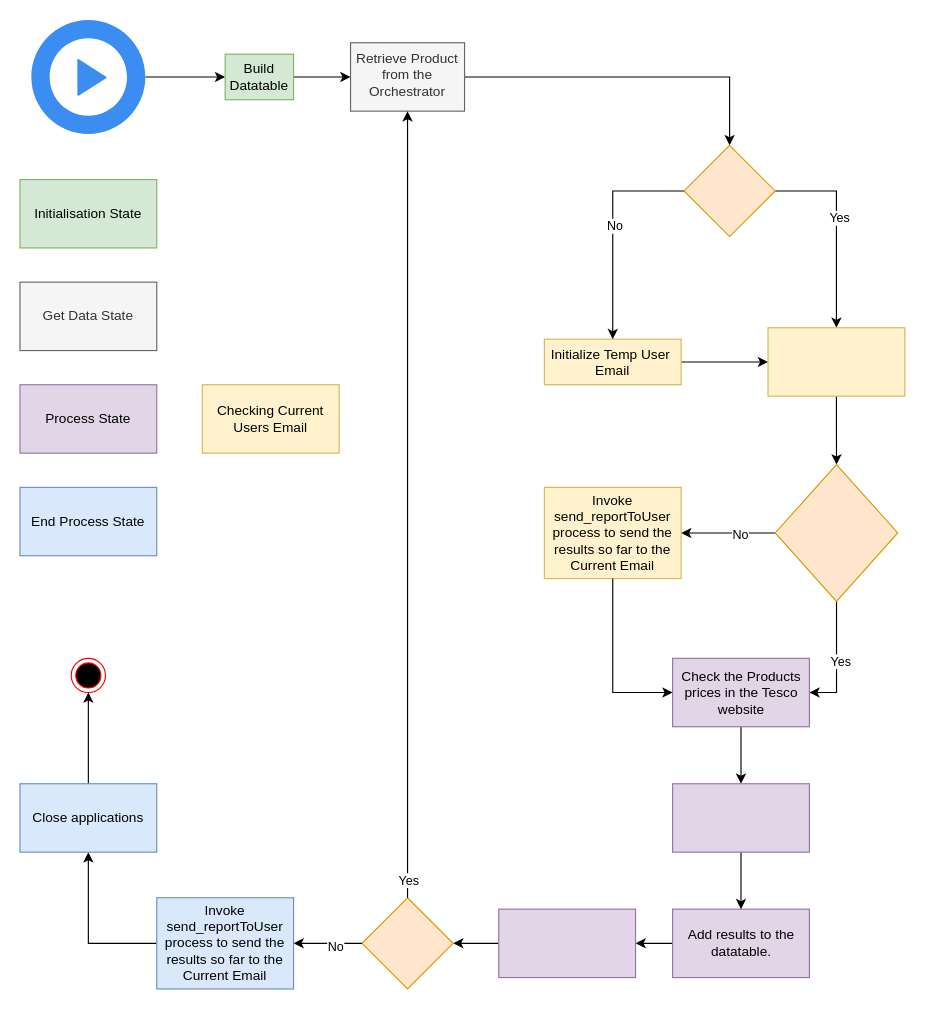
This 926x1009 diagram has some shape labels left out. Each missing label, with the centre of its shape:
"Check if the current users Email is equal to the Temp User Email." belongs at (836,361).
"Check if the is more Products in teh Orchestrator Queue" belongs at (567,943).
"Check the Products prices in the Dunnes website" belongs at (740,817).
"Nore Products?" belongs at (407,943).
"Temp User Email equal to the Current User Email" belongs at (836,532).
"Temp User email initialized" belongs at (729,190).
